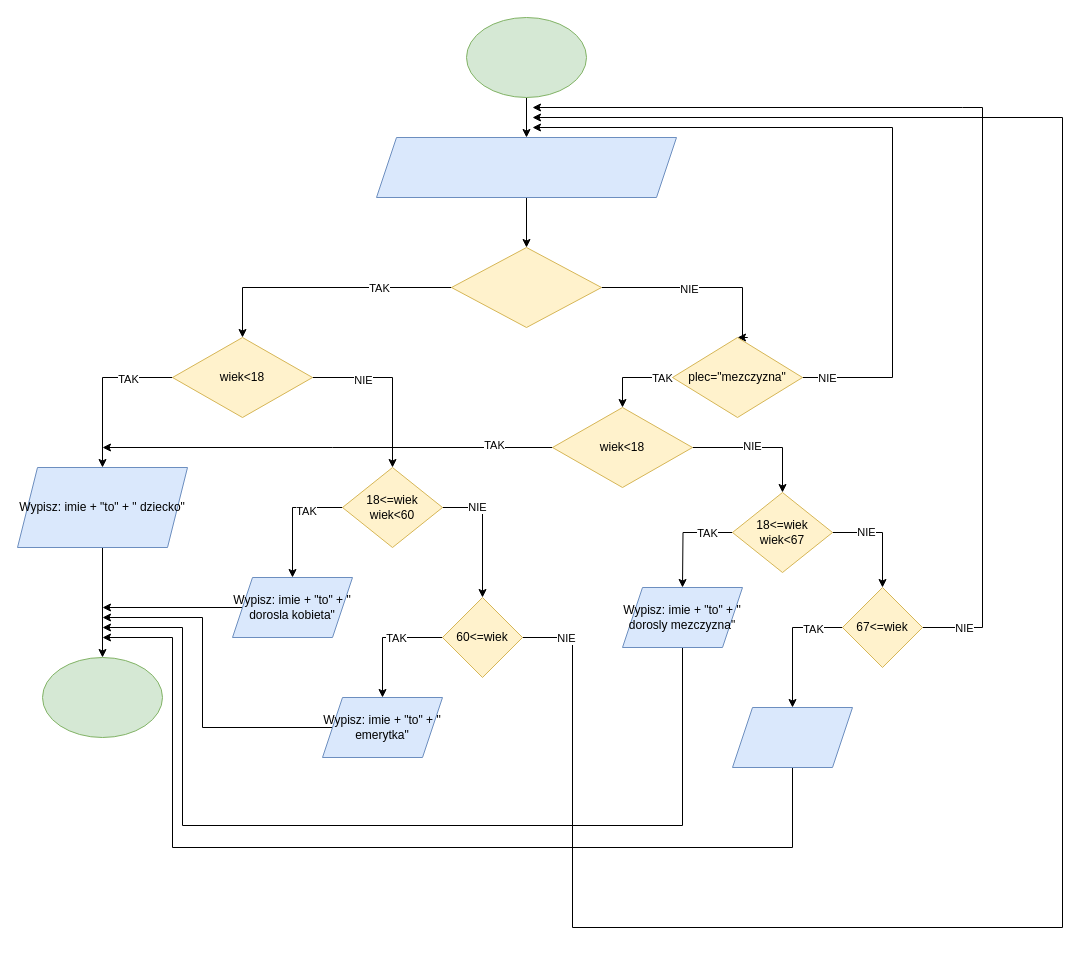
Image size: 1088x953. Some labels were removed from this diagram. Each missing label, with the centre of its shape:
KONIEC: point 102,697
plec="kobieta": point 526,287
start: point 526,57
wczytaj: imie, nazwisko, wiek, plec: point 526,167
Wypisz: imie + "to" + " emeryt": point 792,737
